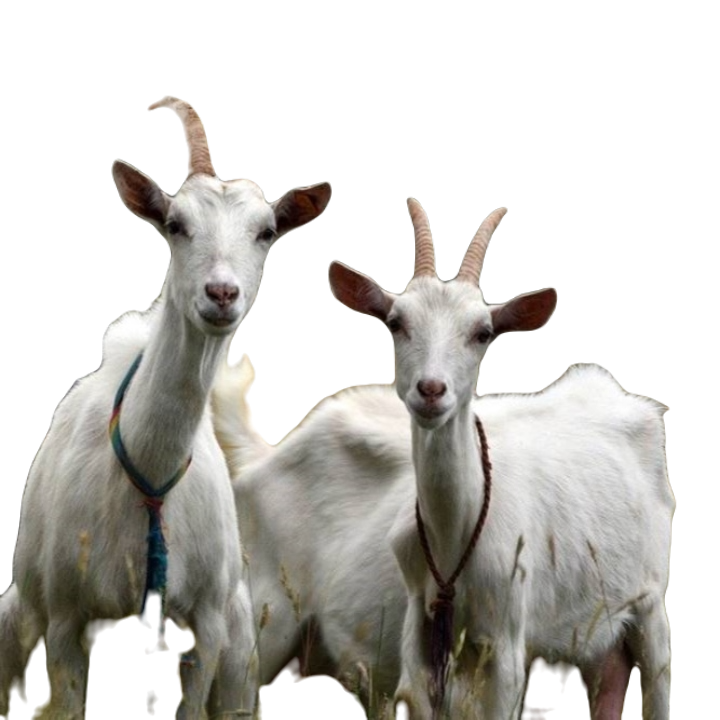Goat: (0, 95, 329, 719)
